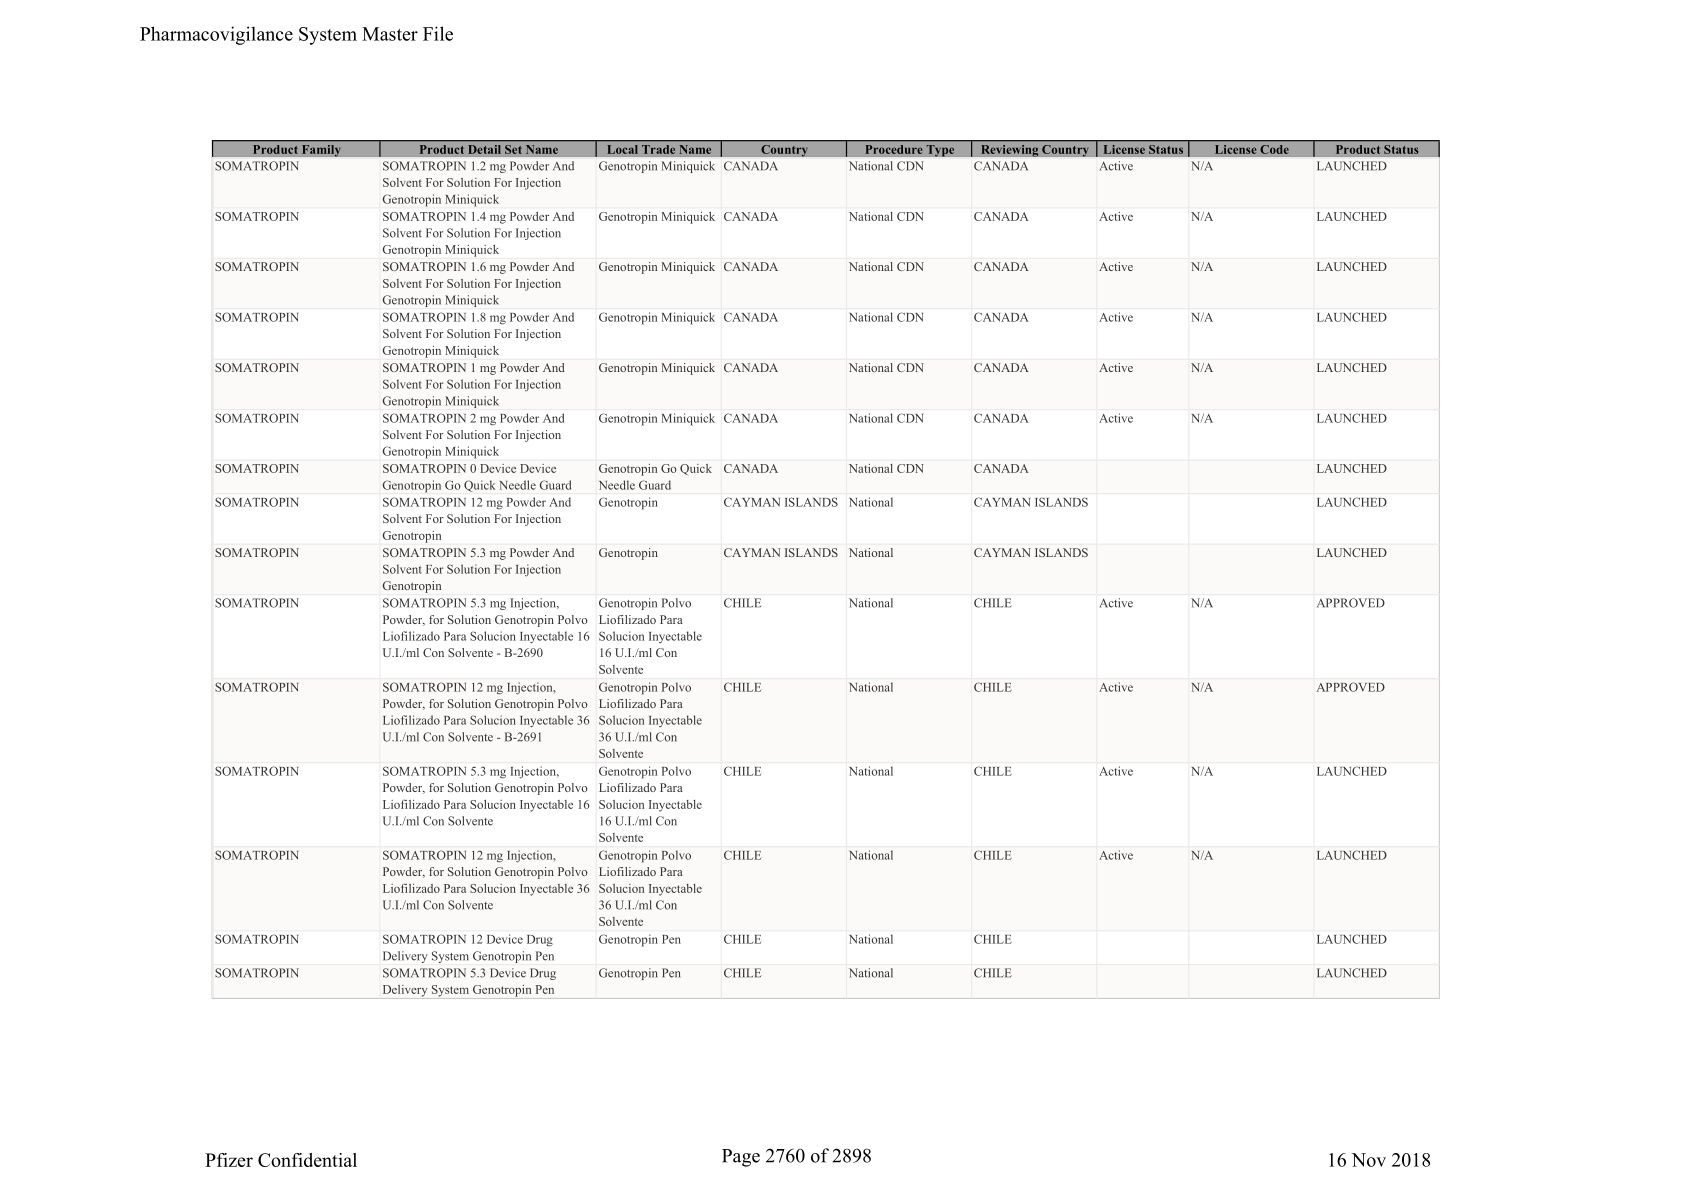full_lined: (210, 139, 1441, 1000)
